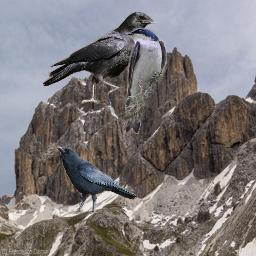Crow: (43, 11, 159, 105), (55, 146, 137, 215)
Swallow: (121, 27, 167, 134)
